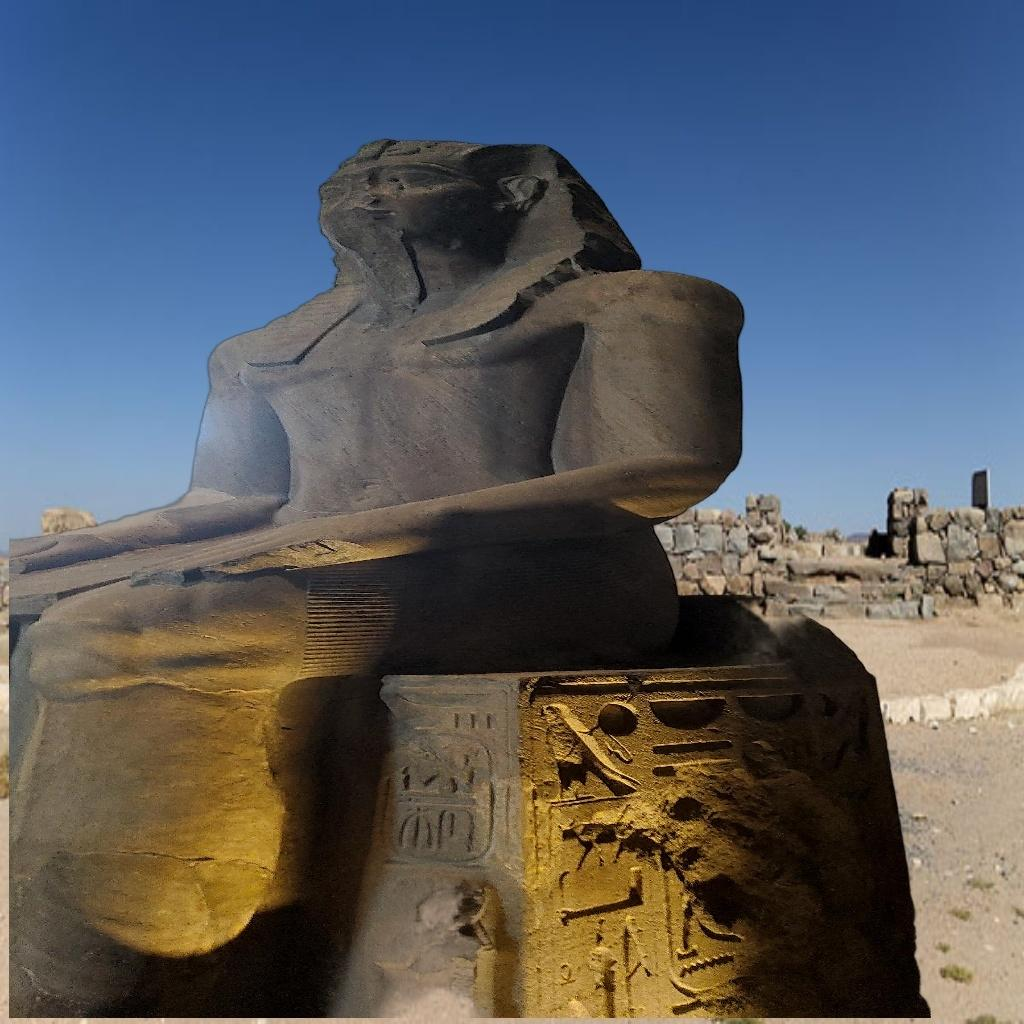Colossal Statue of Middle Kingdom King: (9, 133, 931, 1018)
